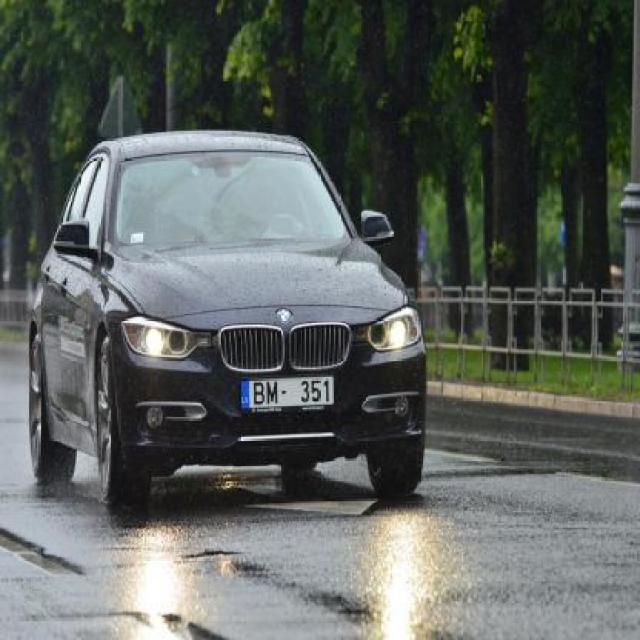License-Plates: (236, 370, 341, 414)
